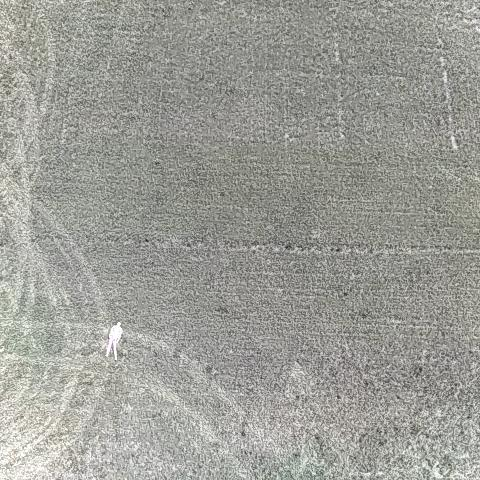person: (107, 320, 123, 362)
